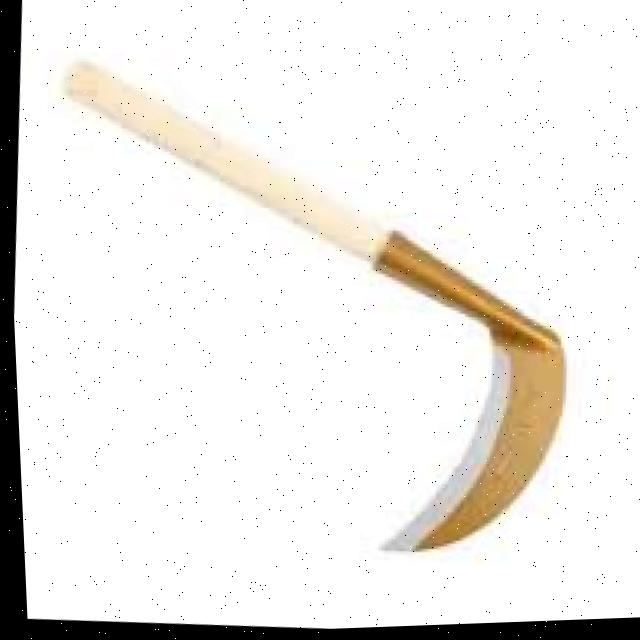sickle: (73, 66, 640, 603)
